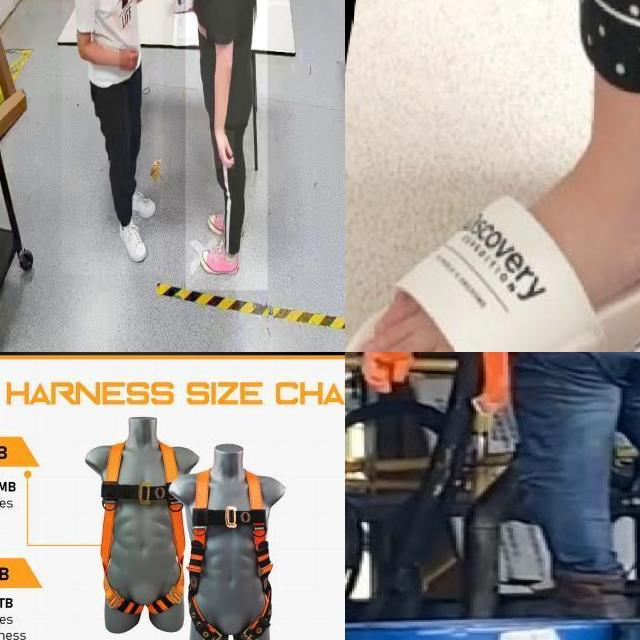Harness: (101, 442, 185, 614), (189, 470, 273, 640), (165, 577, 182, 604)
Sandals: (345, 121, 597, 352), (491, 111, 640, 352)
hand_noglove: (212, 130, 235, 170), (119, 45, 139, 71)
person: (61, 0, 163, 275), (185, 0, 268, 291)
shoes: (116, 214, 150, 268), (199, 244, 244, 279), (118, 183, 156, 222), (203, 212, 249, 240)
